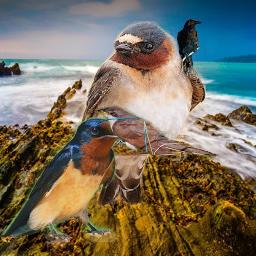Crow: (177, 19, 203, 77)
Cuckoo: (93, 103, 220, 165)
Swallow: (74, 21, 206, 206), (0, 117, 125, 242)
